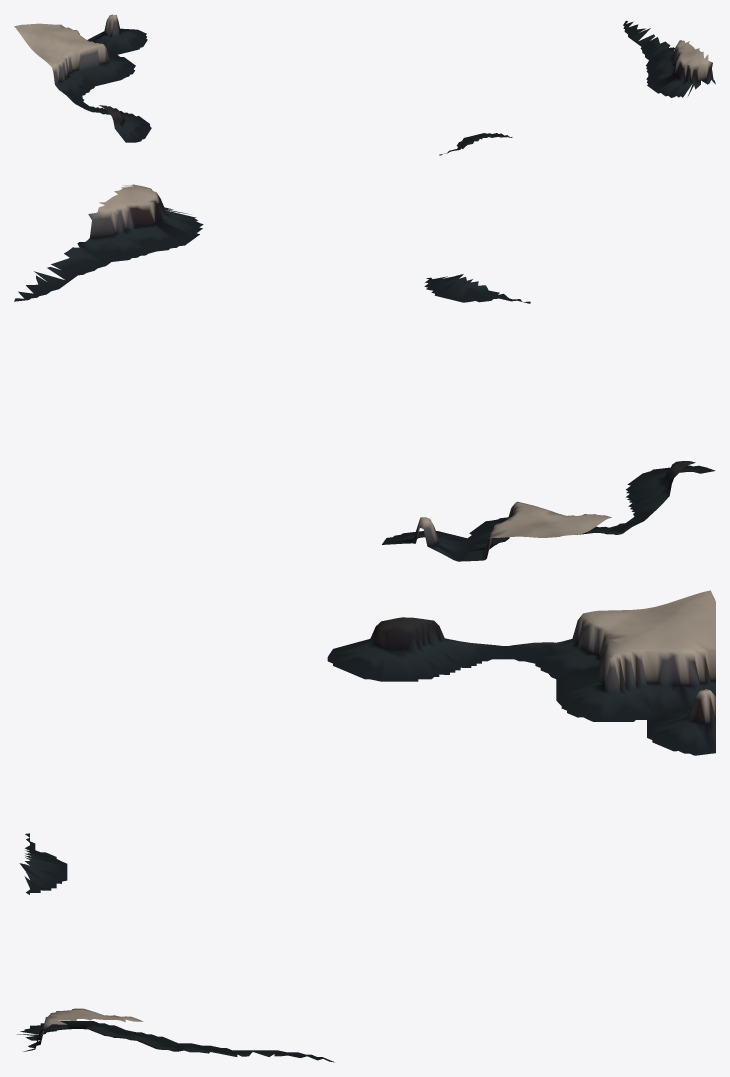
Rendered from ash_tile_x0z0_lod1.glb.
The picture shows the model from 3 angles, top to bottom: view 1: azimuth 30°, elevation 25°; view 2: azimuth 150°, elevation 25°; view 3: azimuth 270°, elevation 25°; orthographic projection. The views are drawn at different scales.
Visible parts, largest first — view 1: geometry_0; view 2: geometry_0; view 3: geometry_0.
Part boxes in pixels (x1,y1,x2,y2): geometry_0: [14, 14, 715, 155]; geometry_0: [14, 184, 715, 561]; geometry_0: [17, 590, 715, 1062].
Bounding box in the file's own units: 1114 × 74.38 × 792.
